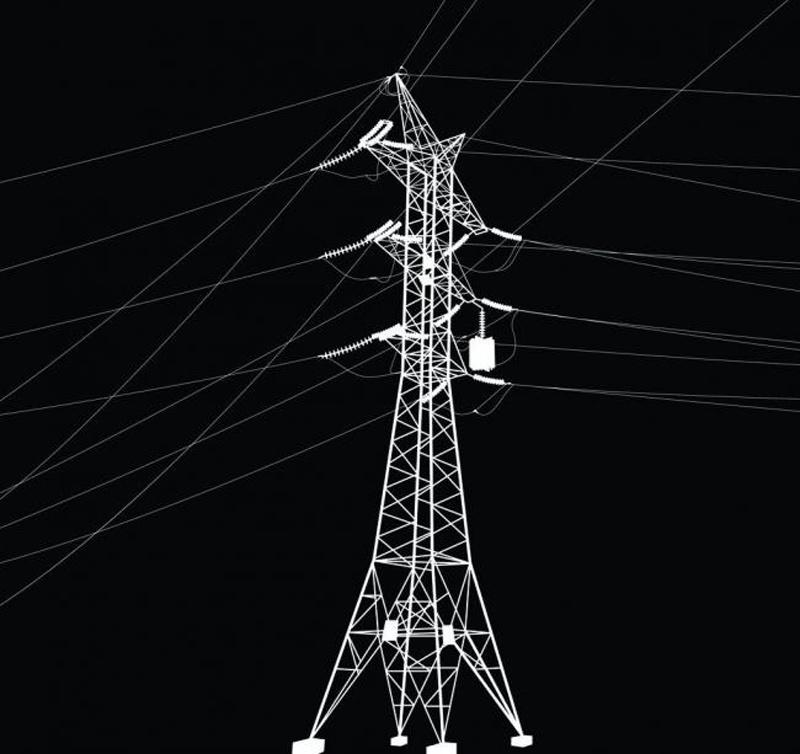power_tower: (272, 57, 573, 743)
